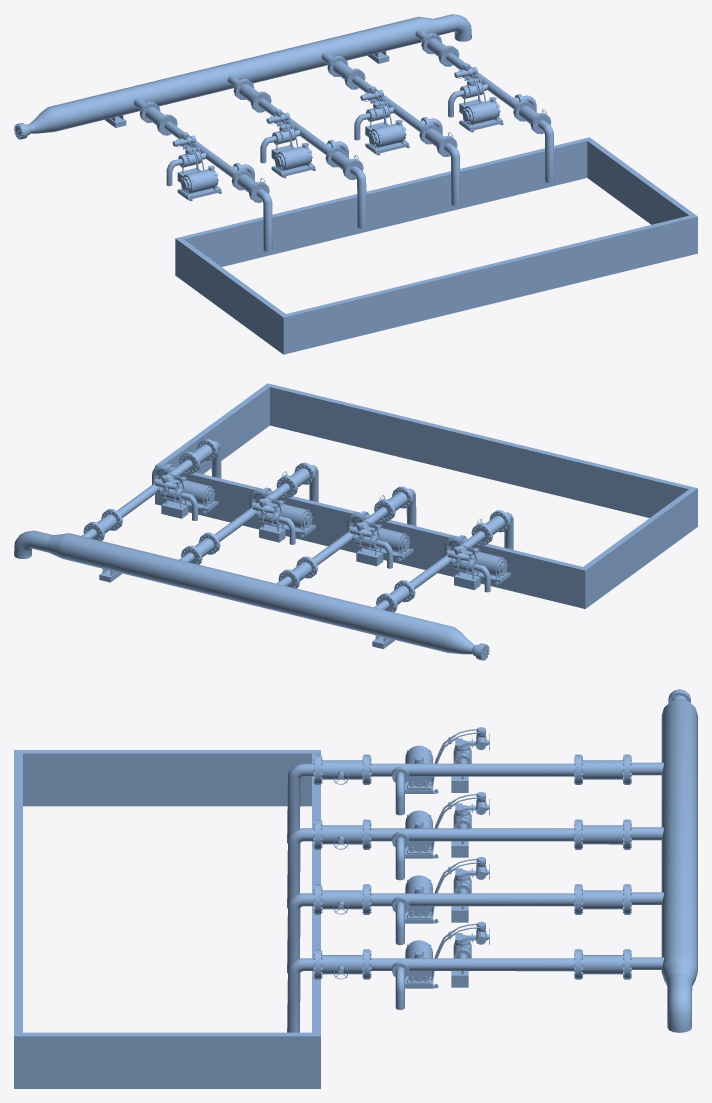
3 views of the same model, one above another, from view 1: azimuth 30°, elevation 25°; view 2: azimuth 150°, elevation 25°; view 3: azimuth 270°, elevation 25° (orthographic). The views are drawn at different scales.
Parts seen in each view (by area): view 1: SB-3, SB-1, SB-4, SB-5; view 2: SB-3, SB-4, SB-1, SB-5; view 3: SB-3, SB-1, SB-4, SB-5.
Part boxes in pixels (x1,y1,x2,y2): SB-3: (175, 137, 697, 354); SB-1: (105, 29, 554, 251); SB-4: (14, 14, 471, 139); SB-5: (166, 63, 503, 201); SB-3: (155, 383, 697, 608); SB-4: (14, 530, 489, 660); SB-1: (82, 439, 513, 648); SB-5: (154, 473, 510, 592); SB-3: (14, 750, 320, 1088); SB-1: (287, 754, 663, 1032); SB-4: (661, 689, 697, 1032); SB-5: (405, 727, 489, 988).
Size of the model in its own units: 72.18 by 12.81 by 66.5.
